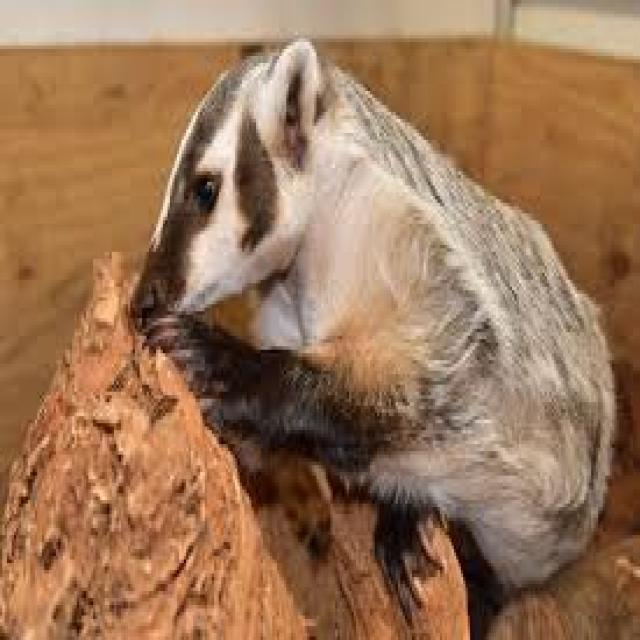Badger: (132, 29, 610, 603)
